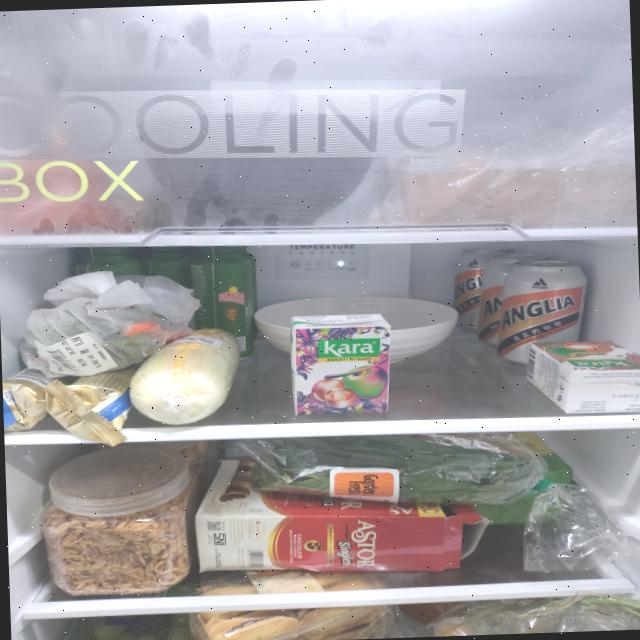coconut_milk: (288, 313, 394, 416), (522, 337, 640, 417)
corn: (126, 325, 245, 426)
leafy_greens: (253, 428, 536, 514)
